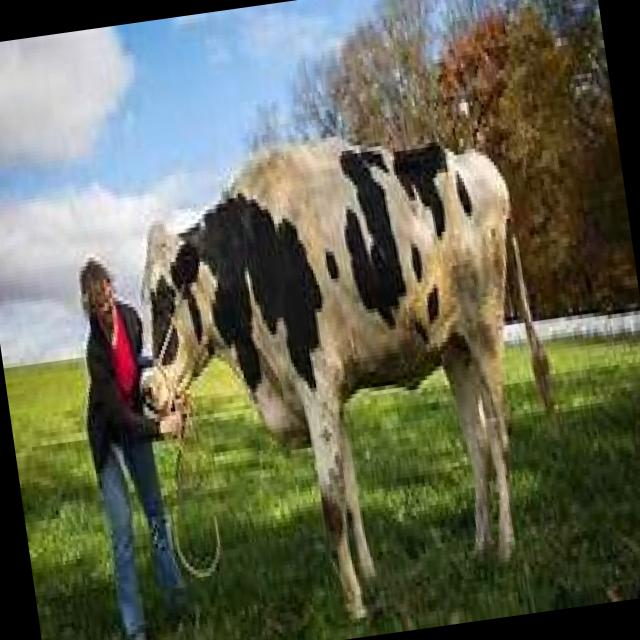animal: (110, 112, 566, 640)
